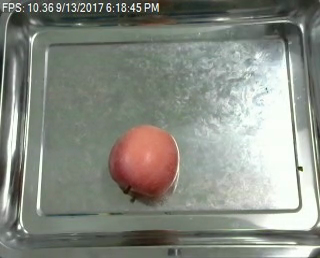Apple: (107, 123, 180, 199)
